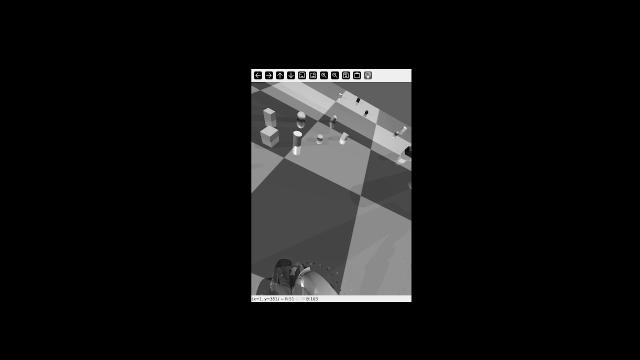cilindro: (292, 128, 301, 147), (340, 131, 354, 141), (329, 113, 339, 125)
cuadrado: (261, 121, 281, 141), (265, 108, 277, 121), (401, 126, 408, 132), (336, 93, 344, 98), (356, 97, 361, 102)
esfera: (295, 109, 308, 121), (314, 133, 325, 142), (361, 109, 371, 116), (394, 131, 400, 138)
rectangulo: (405, 146, 412, 157)
